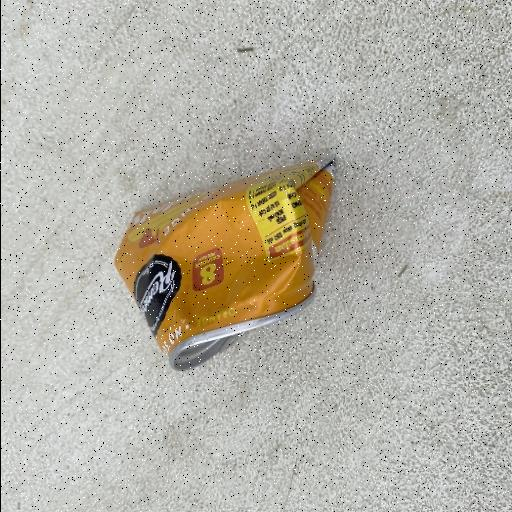Metal: (111, 154, 339, 370)
